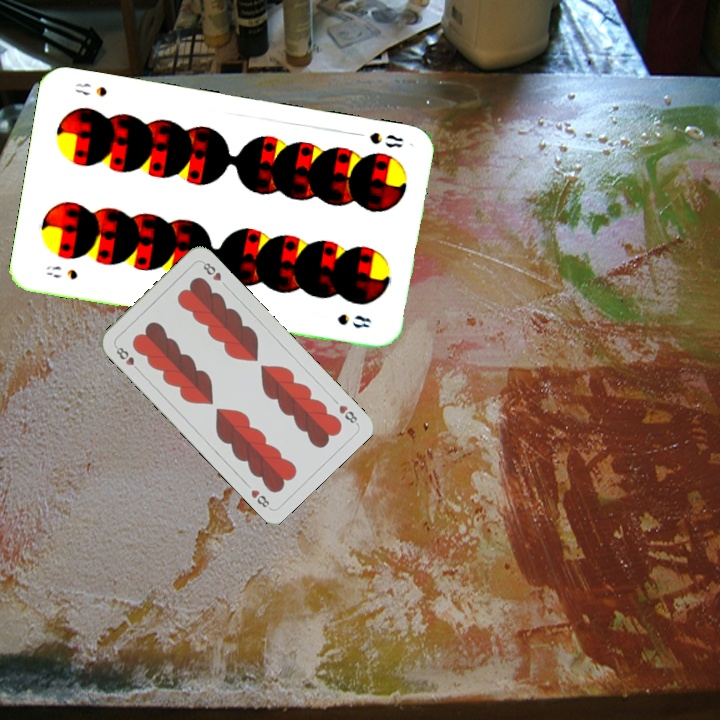H8: (111, 342, 143, 374), (335, 401, 360, 427)
S8: (366, 128, 405, 151), (42, 261, 80, 282)
